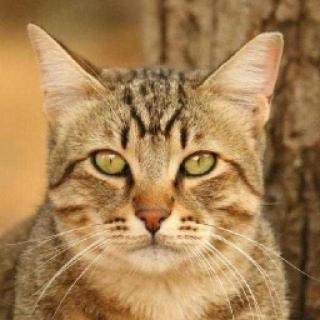cat: (24, 16, 295, 293)
nose: (131, 191, 178, 237)
